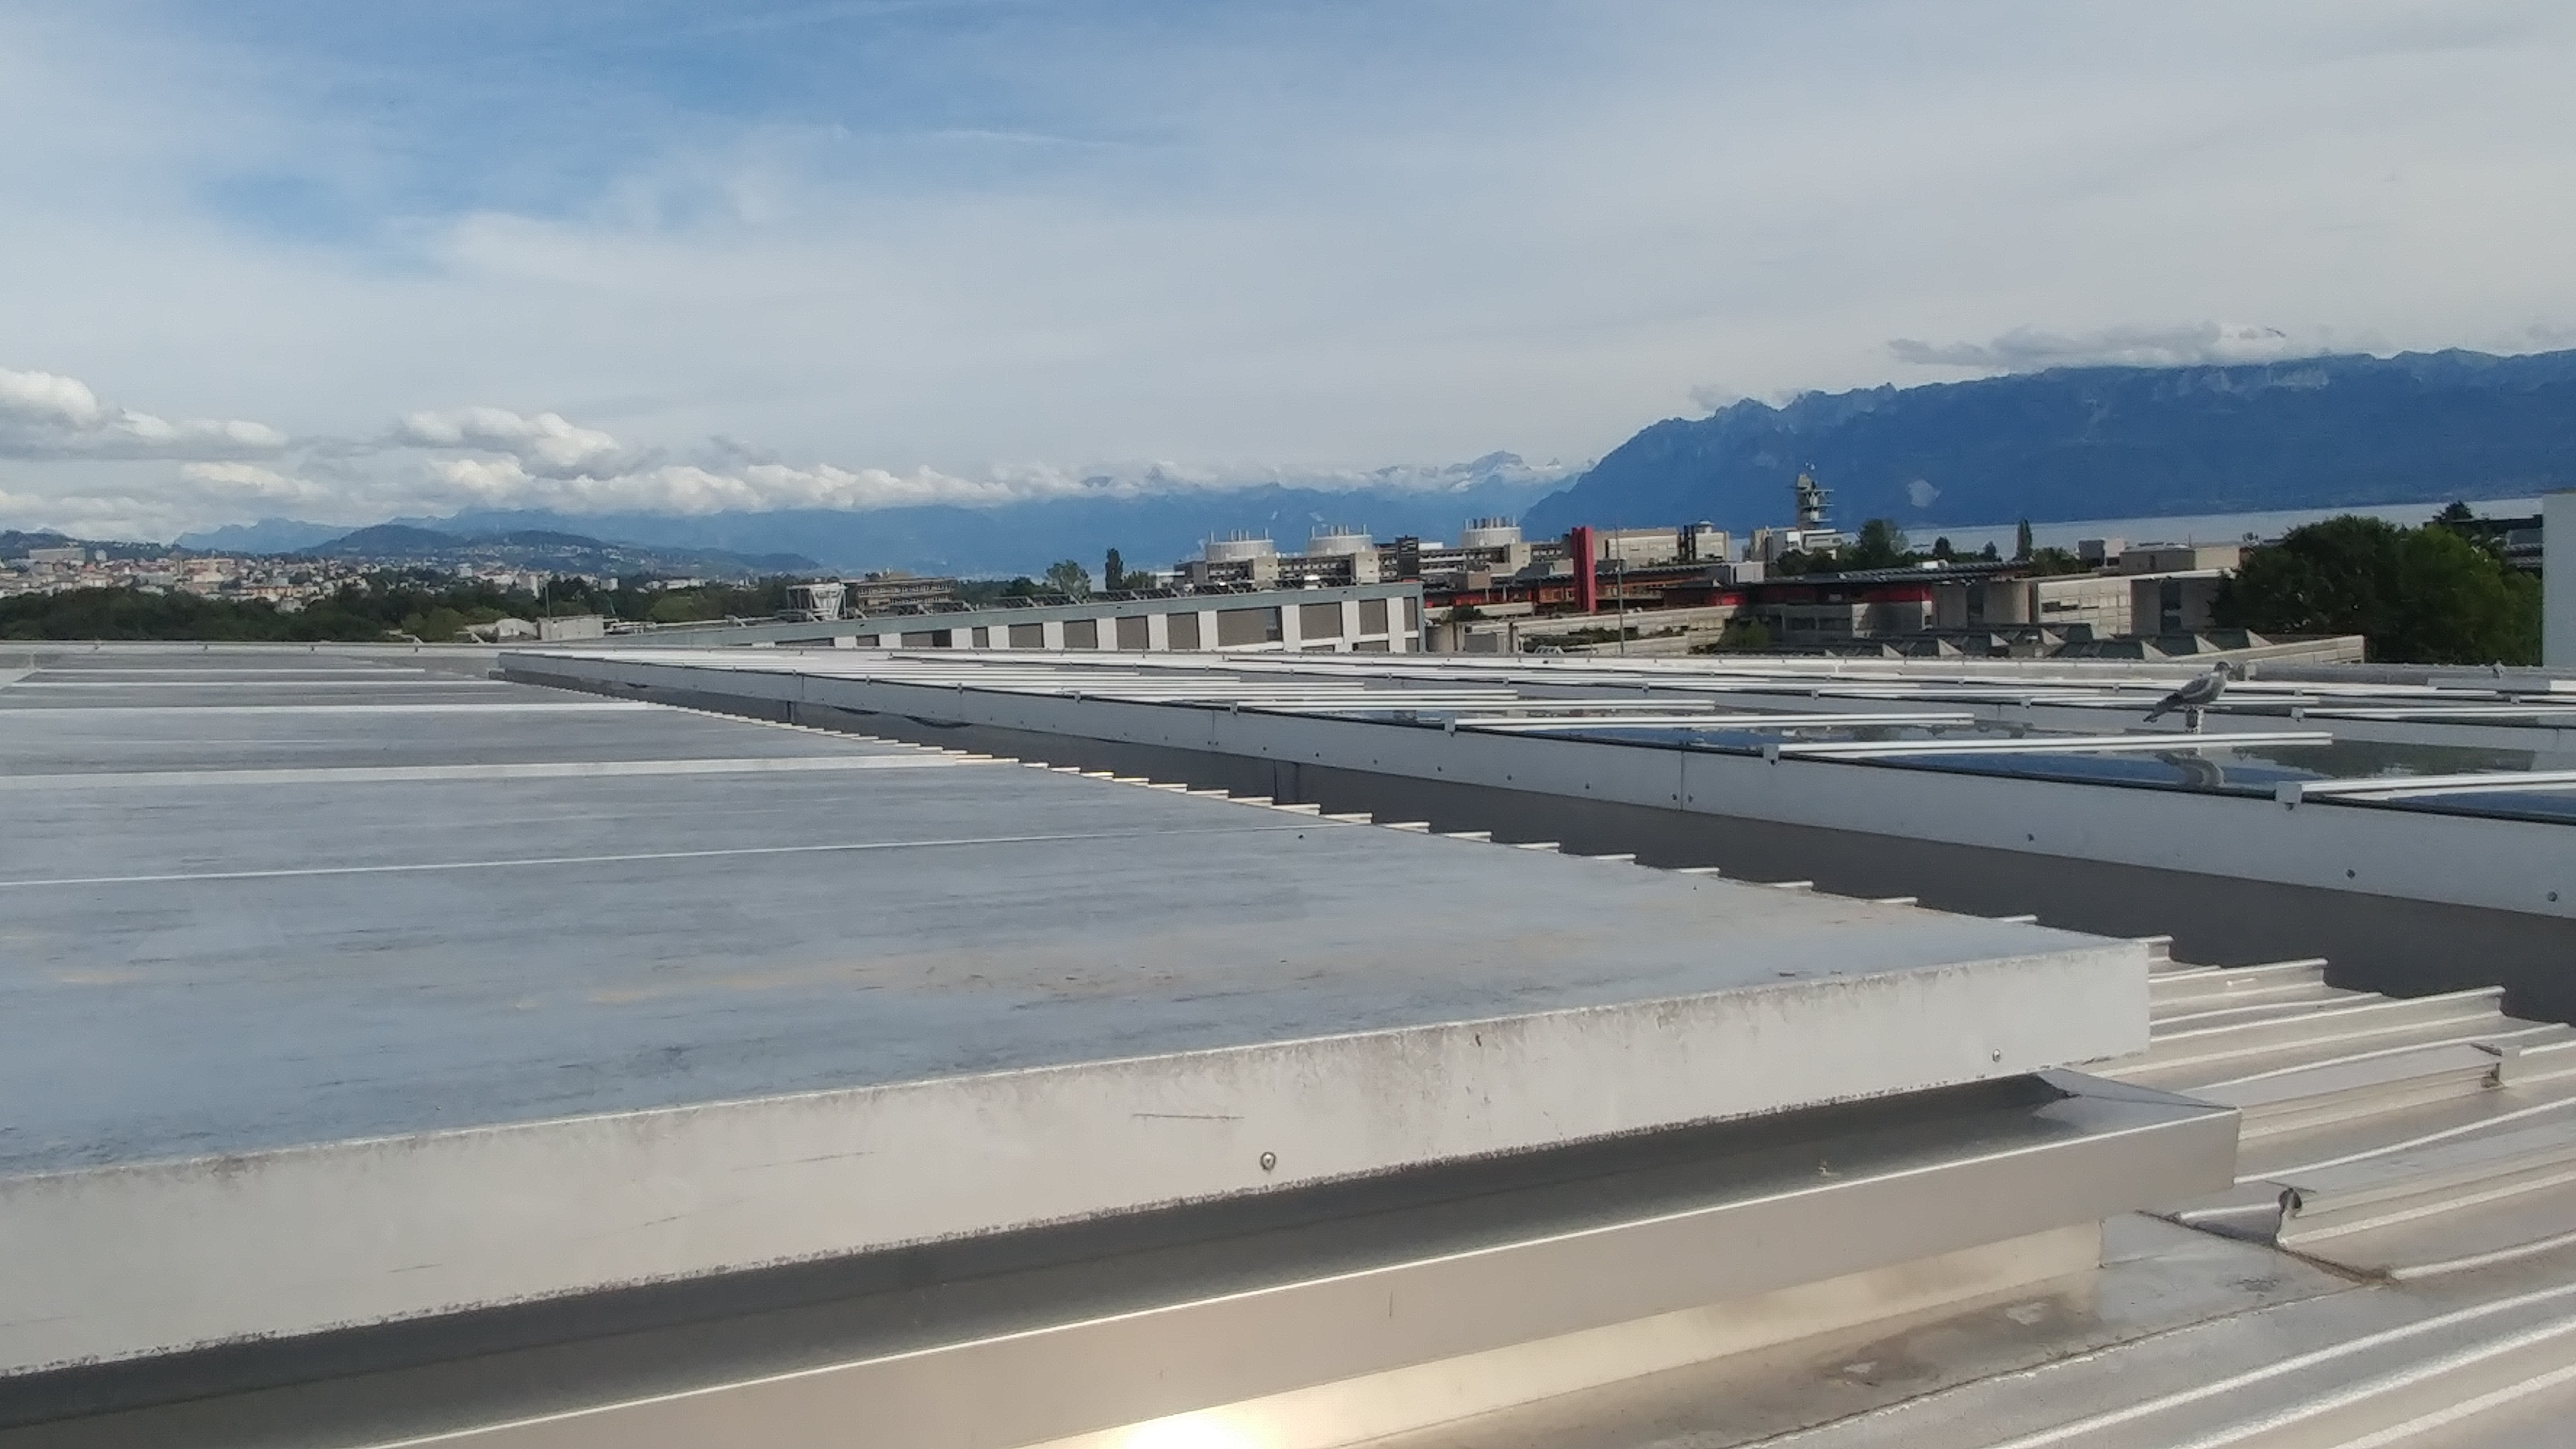Pigeon: (2146, 655, 2236, 738)
